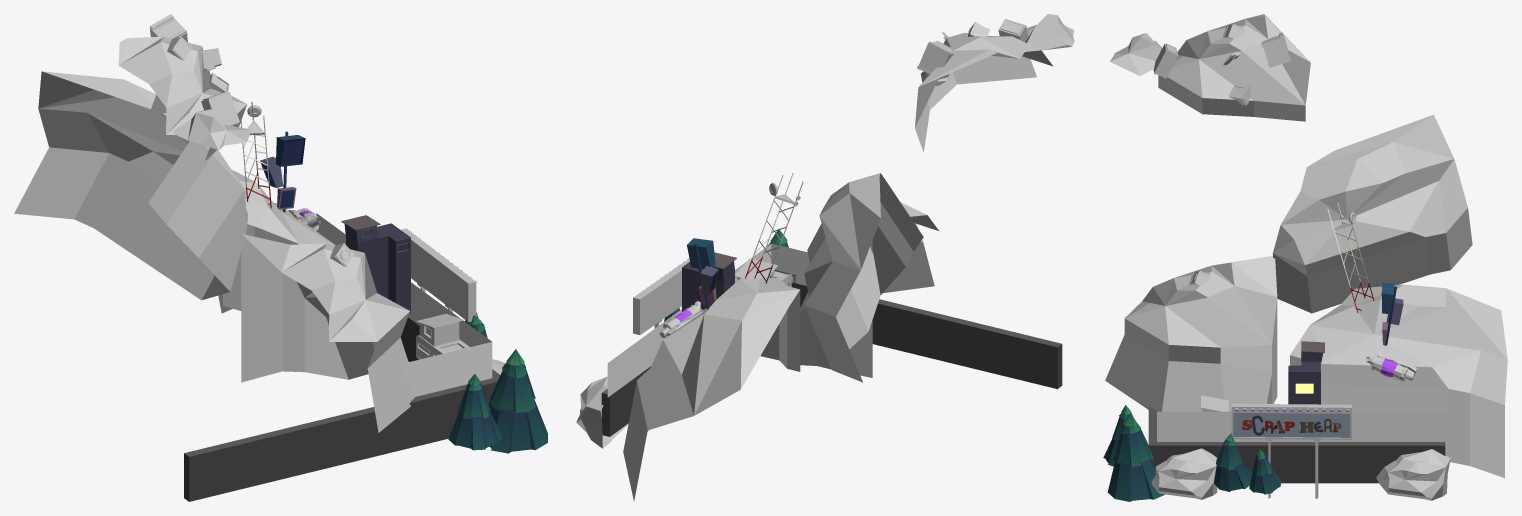
File: EXT_MORP_ScrapHeap.fbx
3 views of the same model, side by side, from view 1: azimuth 30°, elevation 25°; view 2: azimuth 150°, elevation 25°; view 3: azimuth 270°, elevation 25° (orthographic). The views are drawn at different scales.
Parts seen in each view (by area): view 1: Plane.014, Plane.009, Cube.314, Plane.035, Pigeon_Home.001, Trees.018, Plane.013, Cube.1314, Trees.038, Pigeon_Transformer.001, Plane.028, Trailer_Body.013 (+4 smaller); view 2: Plane.013, Plane.014, Cube.314, Plane.035, Plane.009, Cube.1314, Pigeon_Home.001, Plane.025, Pigeon_Transformer.001, Cube.317, Plane.028, Radio.001 (+4 smaller); view 3: Plane.014, Plane.013, Plane.009, Plane.035, Cube.314, Cube.1314, Trees.018, Cube.317, Cube.318, Plane.025, Plane.015, Pigeon_Home.001 (+8 smaller).
Boxes of the visible parts, x1,y1,x2,y2 form: Plane.014: (14,71,247,300); Plane.009: (241,234,414,432); Cube.314: (184,317,500,501); Plane.035: (118,14,246,160); Pigeon_Home.001: (341,215,411,313); Trees.018: (489,349,547,453); Plane.013: (218,170,335,313); Cube.1314: (400,228,476,322); Trees.038: (448,374,501,450); Pigeon_Transformer.001: (260,131,305,212); Plane.028: (173,108,251,150); Trailer_Body.013: (415,313,469,359); Plane.013: (623,278,800,501); Plane.014: (804,173,923,382); Cube.314: (601,282,1062,436); Plane.035: (915,18,1053,152); Plane.009: (800,202,938,377); Cube.1314: (633,258,689,334); Pigeon_Home.001: (682,252,736,311); Plane.025: (576,376,628,448); Pigeon_Transformer.001: (687,238,718,309); Cube.317: (607,244,771,379); Plane.028: (1025,14,1074,50); Radio.001: (745,173,803,283); Plane.014: (1272,114,1472,313); Plane.013: (1290,284,1507,477); Plane.009: (1105,256,1277,411); Plane.035: (1153,14,1310,121); Cube.314: (1148,406,1445,483); Cube.1314: (1231,403,1351,498); Trees.018: (1107,413,1164,501); Cube.317: (1157,411,1449,427); Cube.318: (1157,427,1449,442); Plane.025: (1376,449,1450,500); Plane.015: (1151,448,1217,499); Pigeon_Home.001: (1288,341,1324,404).
Size of the model in its own units: 43525 by 49241 by 48579.
